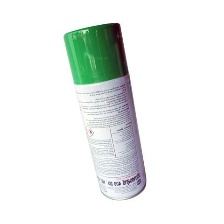aerosol_cans: (60, 19, 150, 203)
